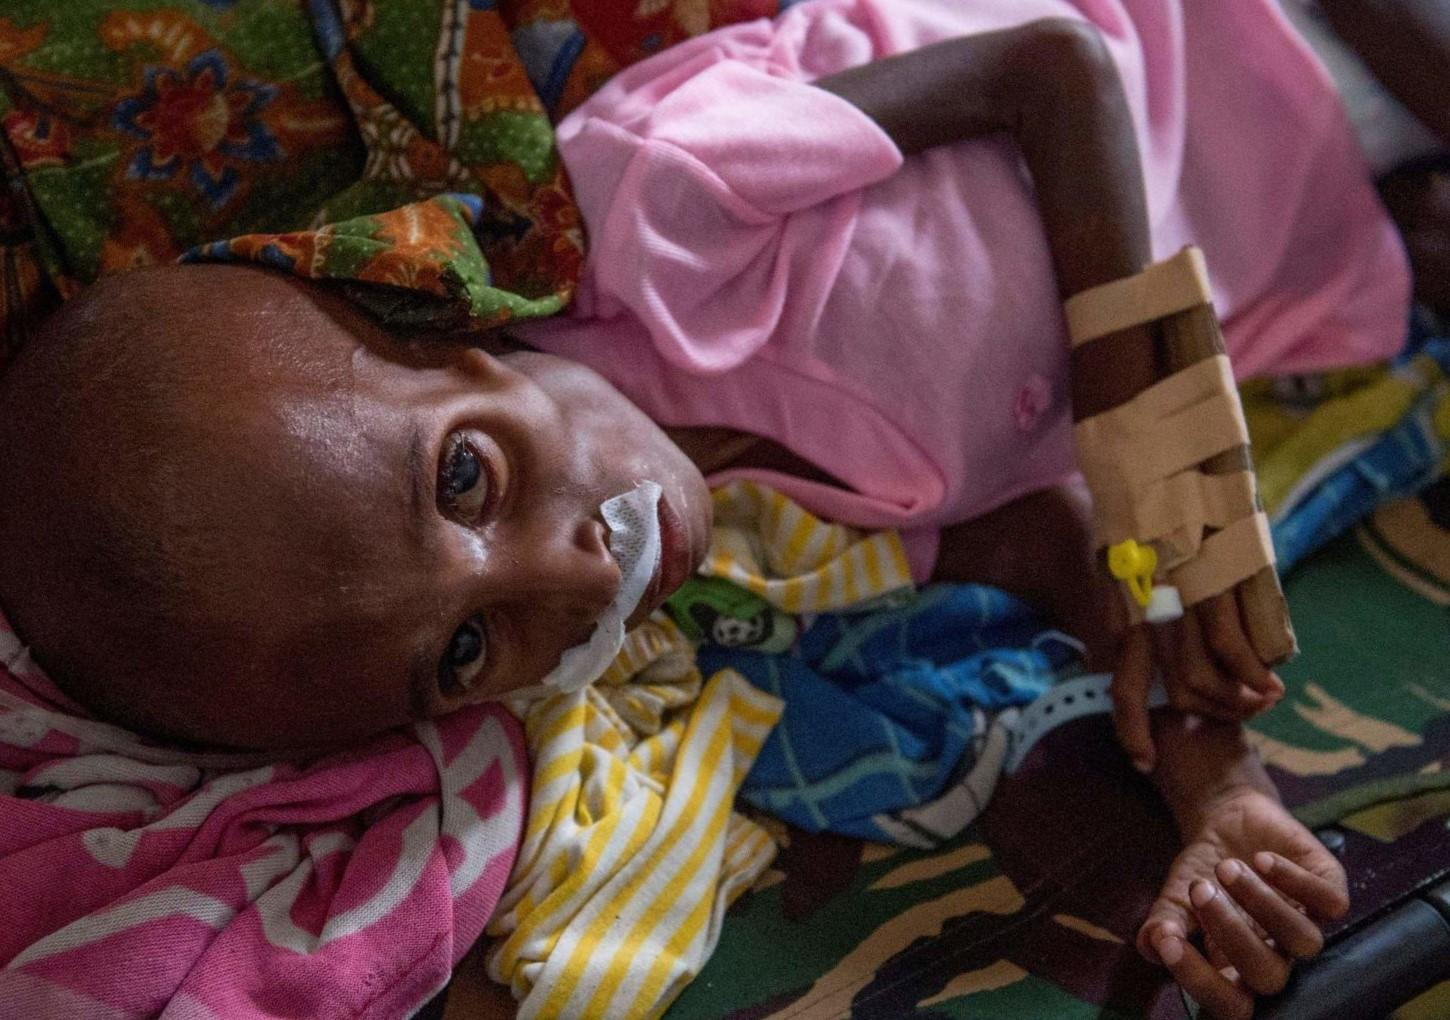Stunting: (43, 230, 770, 828)
